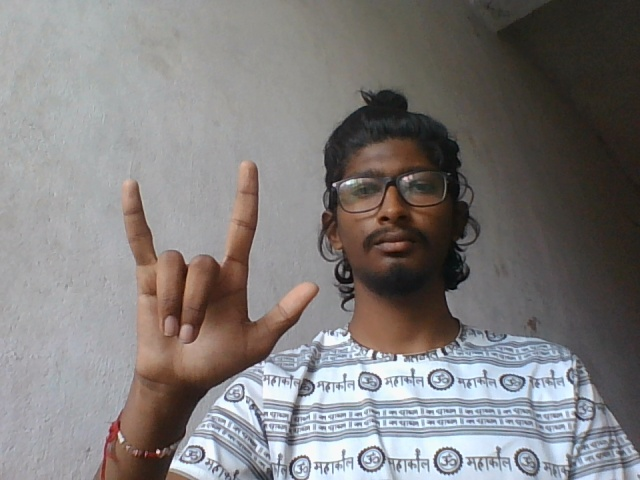House: (114, 156, 324, 408)
